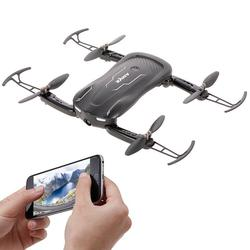drone: (1, 28, 250, 164)
